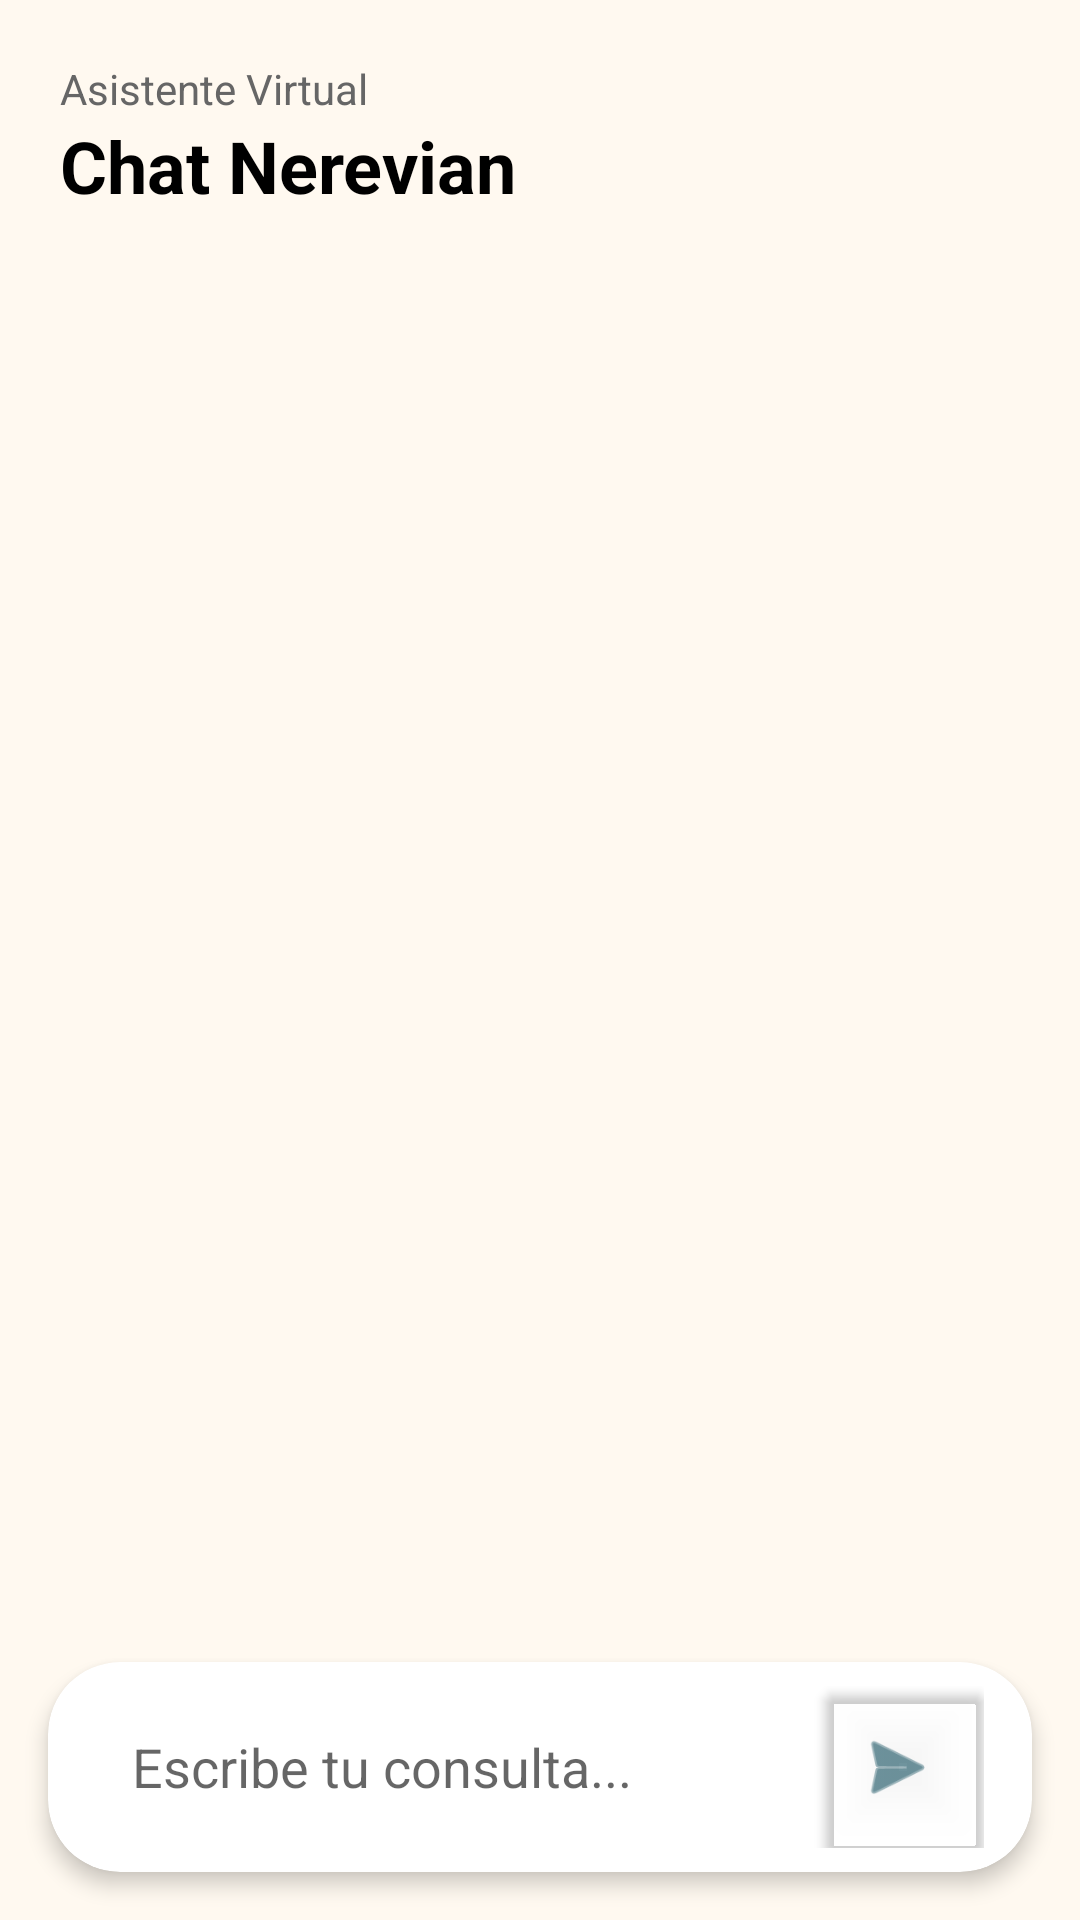

Screen size 1080w x 1920h. Icon name, then its center in pixels as point (x, y):
send: point (904, 1771)
